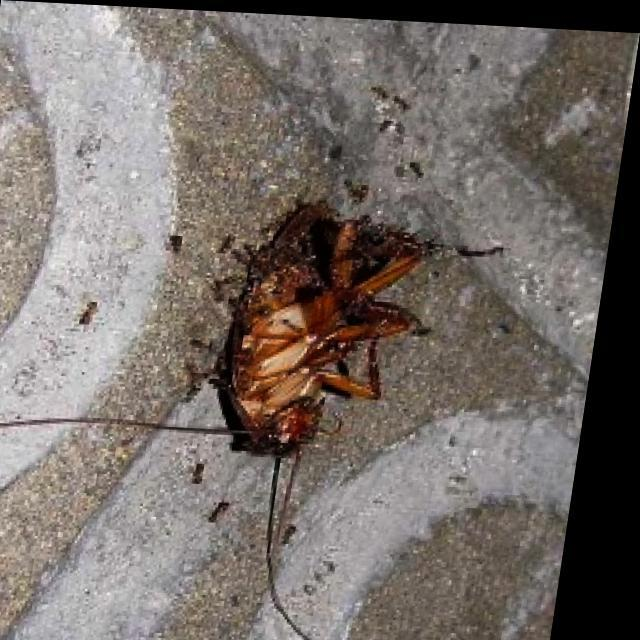cockroach: (217, 200, 430, 451)
